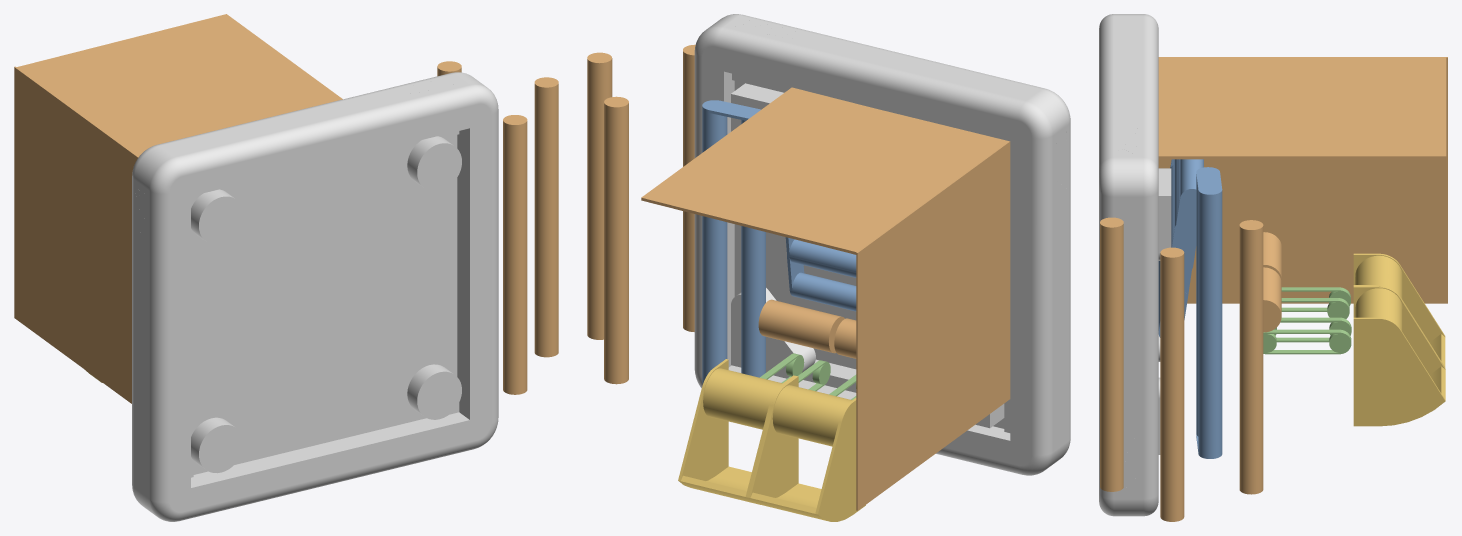
3 renders of one model, left to right at view 1: azimuth 30°, elevation 25°; view 2: azimuth 150°, elevation 25°; view 3: azimuth 270°, elevation 25°, orthographic. The views are drawn at different scales.
Visible parts, largest first — view 1: id41, Generic Structure Piece (×4); view 2: Generic Structure Piece (×7), id41, Fixed Hood Shooter (×2), Horizontal Roller (×3), Belt (×2); view 3: Generic Structure Piece (×7), id41, Fixed Hood Shooter (×2), Horizontal Roller (×4), Belt (×4).
Part boxes in pixels (x1=…): id41: x1=132, y1=72, x2=498, y2=521; Generic Structure Piece (×4): x1=14, y1=14, x2=558, y2=403; Generic Structure Piece (×7): x1=587, y1=44, x2=1010, y2=510; id41: x1=694, y1=14, x2=1070, y2=475; Fixed Hood Shooter (×2): x1=678, y1=359, x2=865, y2=521; Horizontal Roller (×3): x1=702, y1=100, x2=856, y2=383; Belt (×2): x1=760, y1=353, x2=830, y2=391; Generic Structure Piece (×7): x1=1100, y1=57, x2=1447, y2=521; id41: x1=1099, y1=14, x2=1171, y2=516; Fixed Hood Shooter (×2): x1=1353, y1=253, x2=1445, y2=426; Horizontal Roller (×4): x1=1170, y1=159, x2=1222, y2=458; Belt (×4): x1=1263, y1=287, x2=1351, y2=354.
Size of the model in its own units: 1.06 by 0.8382 by 0.7442.
